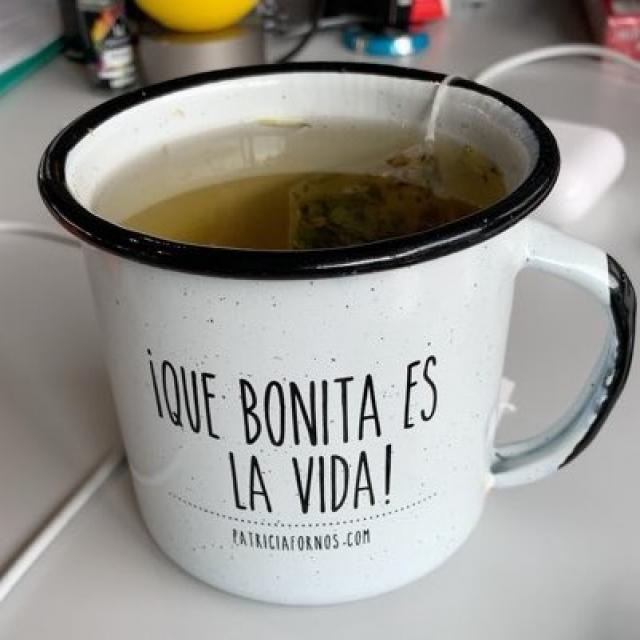tea: (92, 120, 500, 265)
